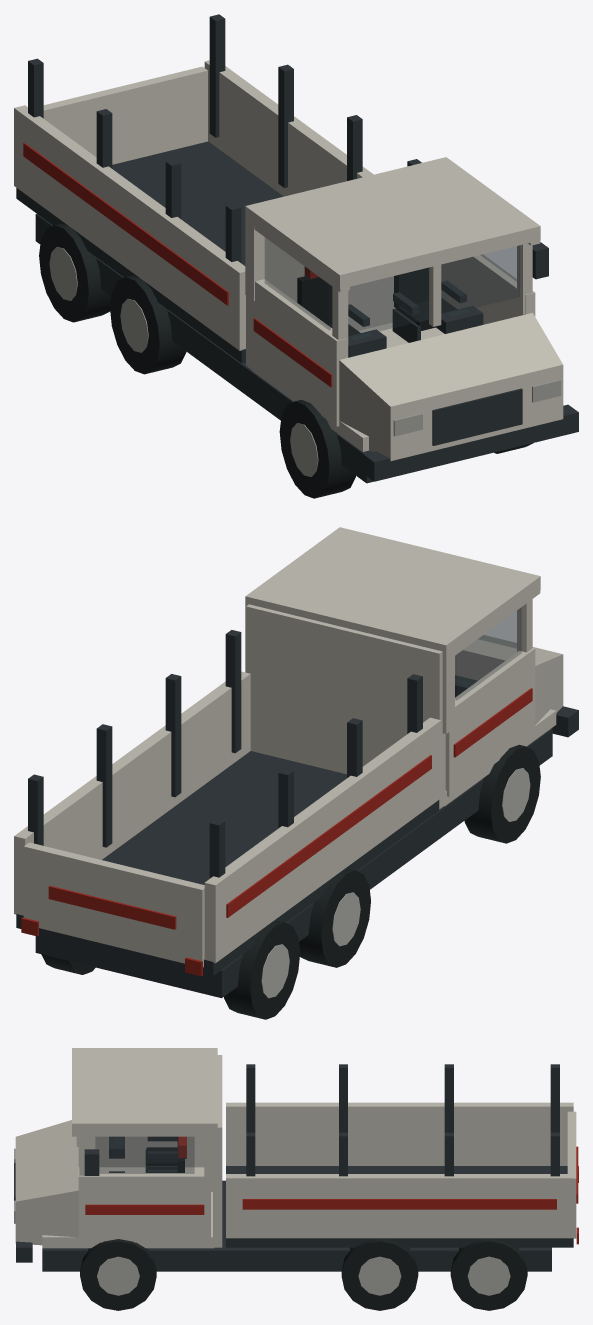
The picture shows the model from 3 angles, top to bottom: view 1: azimuth 30°, elevation 25°; view 2: azimuth 150°, elevation 25°; view 3: azimuth 270°, elevation 25°; orthographic projection. The views are drawn at different scales.
Visible parts, largest first — view 1: cargo-transport-painted, cargo-transport-glazing, cargo-ramp-painted, wheel--1-2.7-fleet-rubber, wheel--1--1.25-fleet-rubber, wheel--1--2.9-fleet-rubber, crew-chair-passenger-painted, crew-chair-driver-painted, wheel--1--2.9-fleet-edge, wheel--1-2.7-fleet-edge, wheel--1--1.25-fleet-edge; view 2: cargo-transport-painted, cargo-ramp-painted, wheel--1-2.7-fleet-rubber, wheel--1--2.9-fleet-rubber, wheel--1--1.25-fleet-rubber, cargo-transport-glazing, wheel--1--1.25-fleet-edge, wheel--1-2.7-fleet-edge, wheel--1--2.9-fleet-edge; view 3: cargo-transport-painted, cargo-transport-glazing, wheel-1--2.9-fleet-rubber, wheel-1--1.25-fleet-rubber, wheel-1-2.7-fleet-rubber, crew-chair-driver-painted, wheel-1--2.9-fleet-edge, wheel-1--1.25-fleet-edge, wheel-1-2.7-fleet-edge, cargo-ramp-painted, crew-chair-passenger-painted, breakaway-1-painted.
Boxes of the visible parts, x1=… form: cargo-transport-painted: x1=14, y1=14, x2=578, y2=483; cargo-transport-glazing: x1=265, y1=238, x2=519, y2=338; cargo-ramp-painted: x1=43, y1=66, x2=207, y2=164; wheel--1-2.7-fleet-rubber: x1=279, y1=399, x2=355, y2=498; wheel--1--1.25-fleet-rubber: x1=110, y1=275, x2=186, y2=374; wheel--1--2.9-fleet-rubber: x1=39, y1=223, x2=111, y2=322; crew-chair-passenger-painted: x1=392, y1=267, x2=483, y2=342; crew-chair-driver-painted: x1=297, y1=267, x2=386, y2=357; wheel--1--2.9-fleet-edge: x1=49, y1=247, x2=77, y2=300; wheel--1-2.7-fleet-edge: x1=290, y1=423, x2=318, y2=476; wheel--1--1.25-fleet-edge: x1=120, y1=299, x2=148, y2=352; cargo-transport-painted: x1=14, y1=527, x2=578, y2=998; cargo-ramp-painted: x1=23, y1=842, x2=204, y2=967; wheel--1-2.7-fleet-rubber: x1=464, y1=744, x2=540, y2=843; wheel--1--2.9-fleet-rubber: x1=224, y1=920, x2=300, y2=1019; wheel--1--1.25-fleet-rubber: x1=299, y1=869, x2=370, y2=967; cargo-transport-glazing: x1=455, y1=607, x2=521, y2=700; wheel--1--1.25-fleet-edge: x1=332, y1=892, x2=360, y2=946; wheel--1-2.7-fleet-edge: x1=502, y1=768, x2=530, y2=821; wheel--1--2.9-fleet-edge: x1=261, y1=944, x2=289, y2=998; cargo-transport-painted: x1=14, y1=1048, x2=578, y2=1271; cargo-transport-glazing: x1=95, y1=1137, x2=194, y2=1173; wheel-1--2.9-fleet-rubber: x1=450, y1=1238, x2=527, y2=1310; wheel-1--1.25-fleet-rubber: x1=341, y1=1238, x2=418, y2=1310; wheel-1-2.7-fleet-rubber: x1=80, y1=1239, x2=156, y2=1310; crew-chair-driver-painted: x1=109, y1=1136, x2=178, y2=1172; wheel-1--2.9-fleet-edge: x1=467, y1=1256, x2=510, y2=1295; wheel-1--1.25-fleet-edge: x1=358, y1=1256, x2=401, y2=1295; wheel-1-2.7-fleet-edge: x1=97, y1=1256, x2=139, y2=1295; cargo-ramp-painted: x1=567, y1=1111, x2=578, y2=1238; crew-chair-passenger-painted: x1=109, y1=1136, x2=186, y2=1172; breakaway-1-painted: x1=84, y1=1149, x2=99, y2=1175.
Size of the model in its own units: 15.71 by 16.2 by 44.74.
